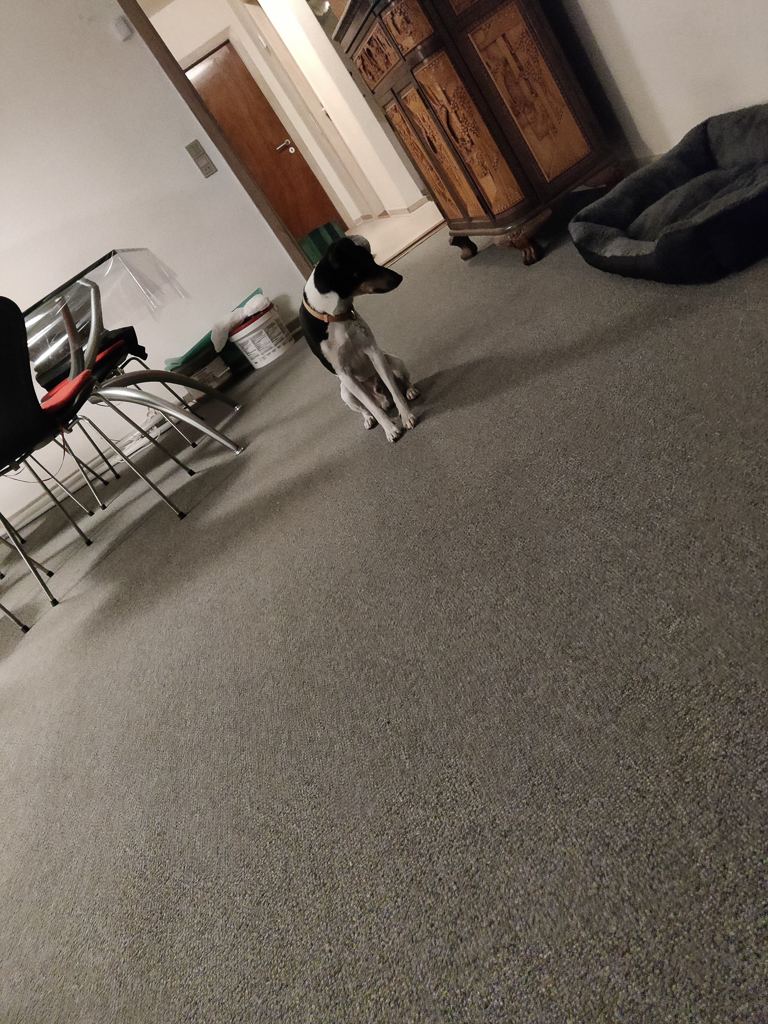Dog: (282, 222, 426, 457)
